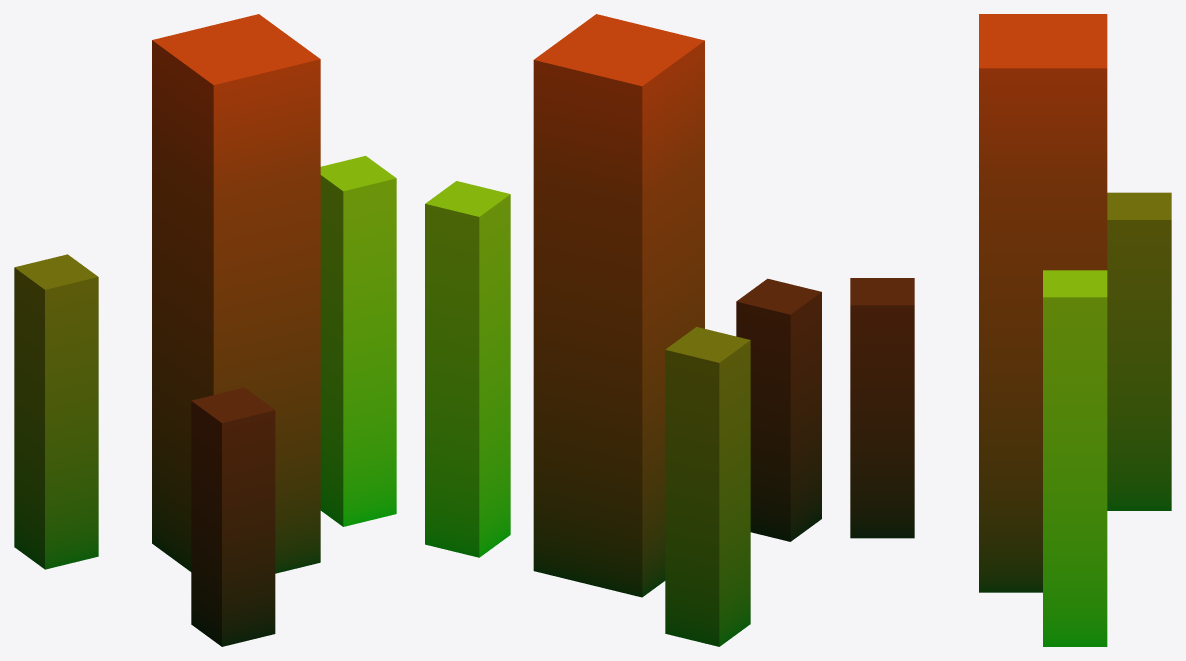
The model's file is prop_grass_tuft_voxel_c_carpet.fbx.
3 renders of one model, left to right at view 1: azimuth 30°, elevation 25°; view 2: azimuth 150°, elevation 25°; view 3: azimuth 270°, elevation 25°, orthographic. The views are drawn at different scales.
Visible parts, largest first — view 1: prop_grass_tuft_voxel_c_carpet; view 2: prop_grass_tuft_voxel_c_carpet; view 3: prop_grass_tuft_voxel_c_carpet.
Boxes of the visible parts, x1,y1,x2,y2 form: prop_grass_tuft_voxel_c_carpet: (14,14,396,646); prop_grass_tuft_voxel_c_carpet: (425,14,821,646); prop_grass_tuft_voxel_c_carpet: (850,14,1171,646).
Bounding box in the file's own units: 0.375 × 0.5625 × 0.3125.
